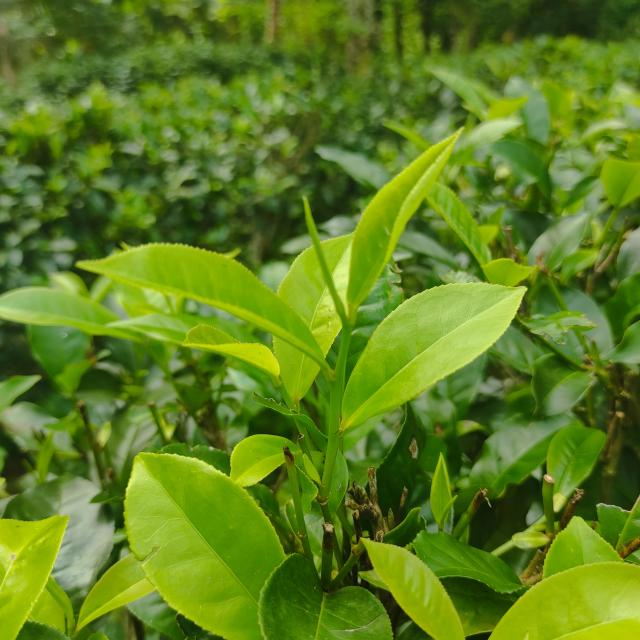unopened_leaf: (297, 187, 353, 328), (434, 488, 466, 536)
